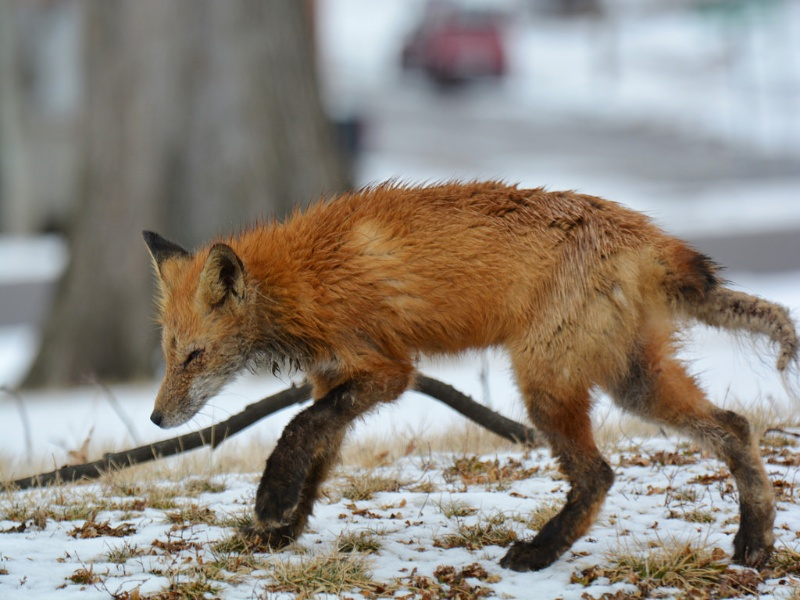fox: (137, 176, 800, 576)
